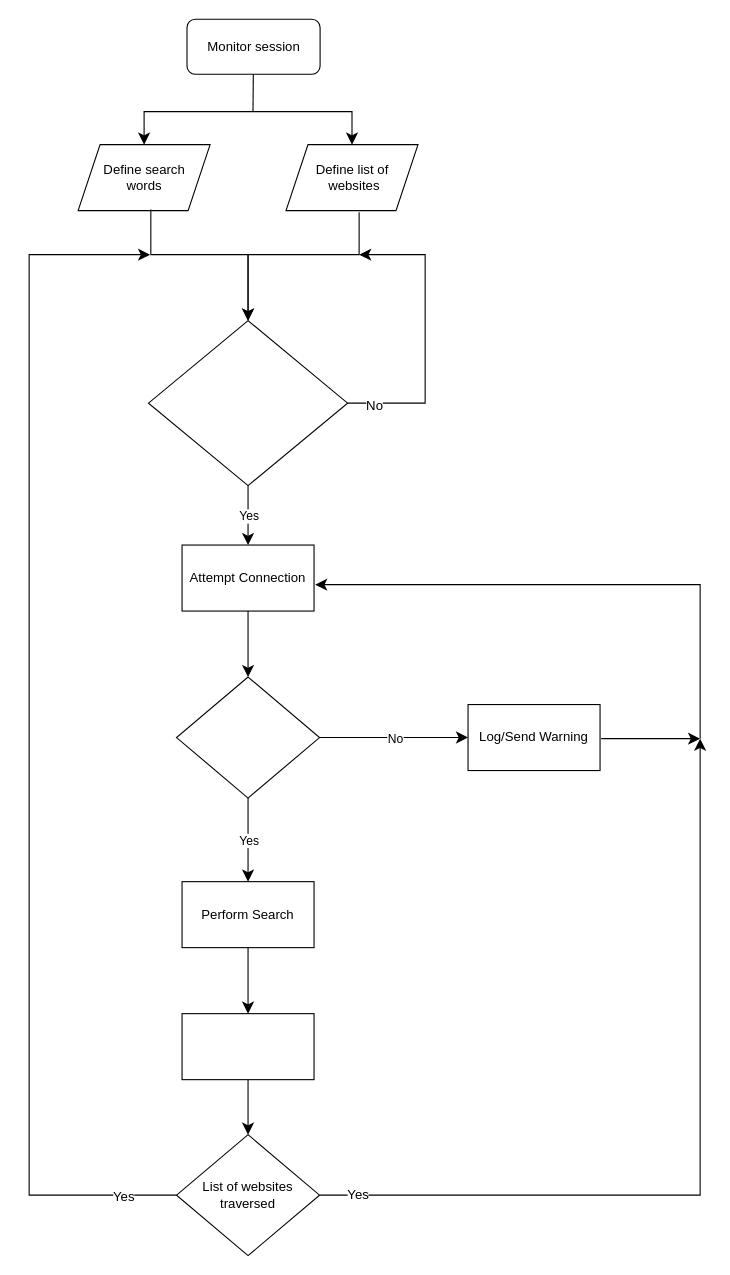
The diagram is 730 pixels wide and 1275 high, and some of its shapes have lost their labels. Here are the shapes that lost their labels. From the top down, the centre of each, then its label:
At point (247, 403): "Search engaged (manual or time-specific)".
At point (247, 737): "Website Accepts Conncetion".
At point (247, 1046): "Log Result".
